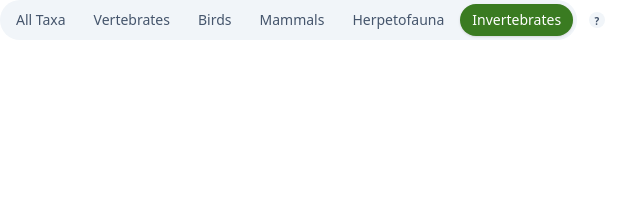
it: TaxonSelector › shows the active filter's tooltip rather than a raw key
Click the button named "More information" at (597, 20), box [589, 12, 605, 28]
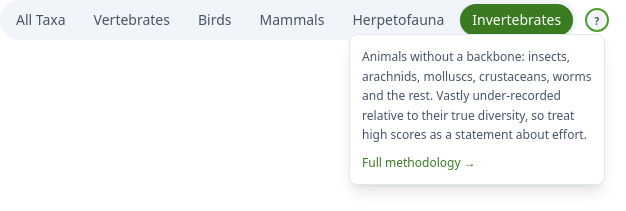
Expected: the text "Animals without a backbone" is shown, [362, 48, 591, 143]
